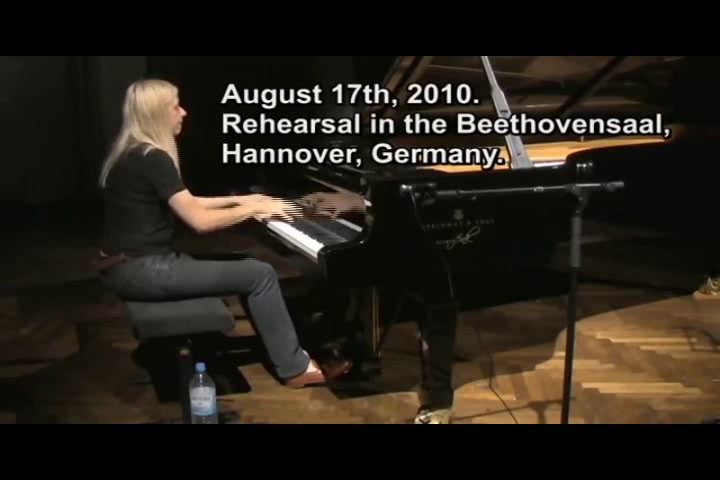keyboard: (223, 184, 361, 265)
